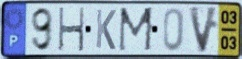0: (162, 6, 186, 54)
9: (29, 7, 55, 53)
H: (57, 6, 86, 53)
K: (95, 8, 118, 52)
M: (117, 6, 156, 54)
V: (187, 5, 221, 55)
